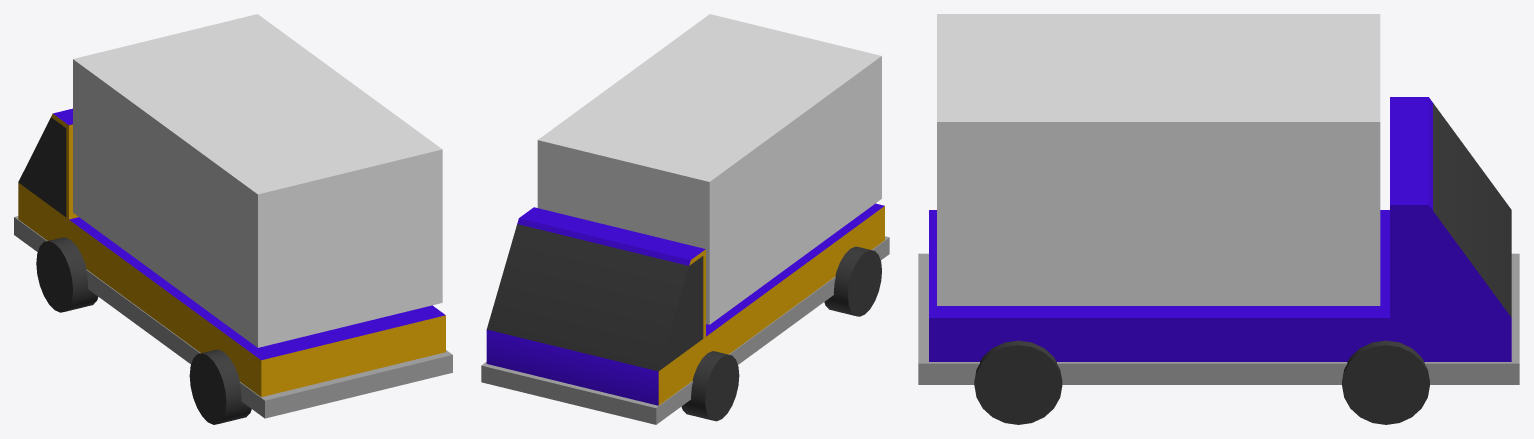
File: Environment_Tucksan-but-bigger-blue.fbx
3 renders of one model, left to right at view 1: azimuth 30°, elevation 25°; view 2: azimuth 150°, elevation 25°; view 3: azimuth 270°, elevation 25°, orthographic. The views are drawn at different scales.
Parts seen in each view (by area): view 1: Tucksan_but_bigger_blue; view 2: Tucksan_but_bigger_blue; view 3: Tucksan_but_bigger_blue.
Boxes of the visible parts, left/top/right/bottom form: Tucksan_but_bigger_blue: left=14, top=14, right=452, bottom=424; Tucksan_but_bigger_blue: left=481, top=14, right=889, bottom=424; Tucksan_but_bigger_blue: left=918, top=14, right=1519, bottom=424.
Bounding box in the file's own units: 5.05 × 5.76 × 10.53.
